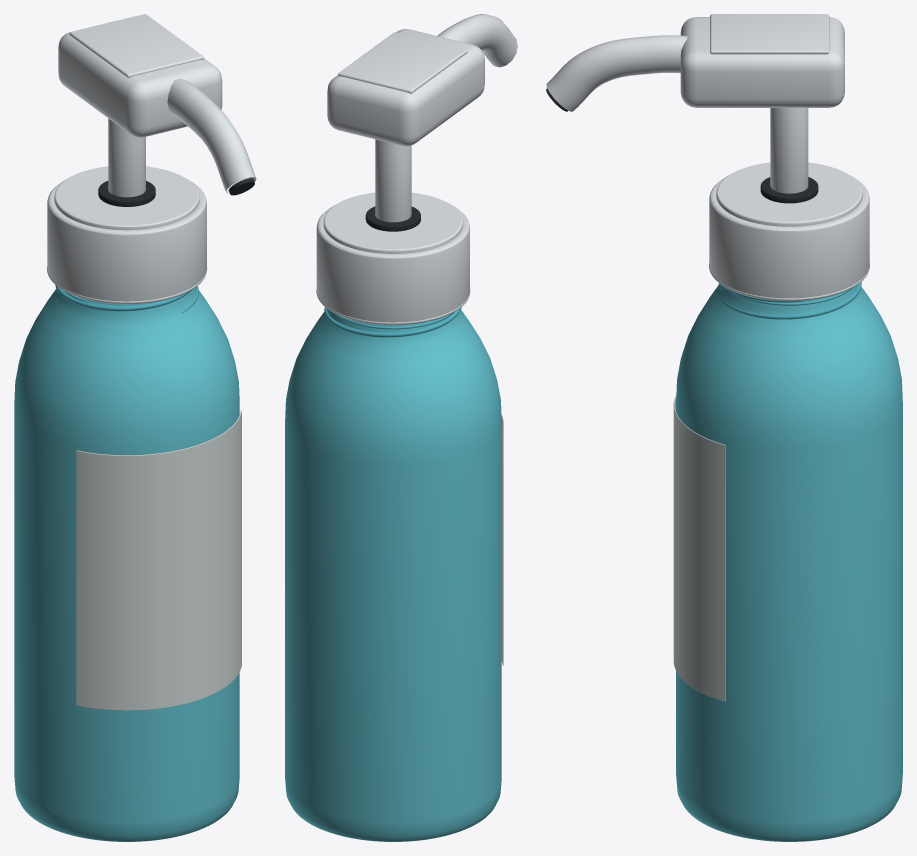
3 views of the same model, side by side, from view 1: azimuth 30°, elevation 25°; view 2: azimuth 150°, elevation 25°; view 3: azimuth 270°, elevation 25° (orthographic). The views are drawn at different scales.
Visible parts, largest first — view 1: Bottle_FrostedGlass_40x105mm.001, Blank_Label_Area_50H_x_40W_mm.001, Pump_Threaded_Collar_24mm.001, Pump_Actuator_Head.001, Collar_Top_Plate.001, Pump_Top_Highlight_Plate.001, Pump_Downward_Curved_Nozzle.001, Pump_Central_Stem.001, Neck_24_410_Thread.001, Pump_Gasket_Reveal.001, Collar_Lower_Highlight_Ring.001; view 2: Bottle_FrostedGlass_40x105mm.001, Pump_Threaded_Collar_24mm.001, Pump_Actuator_Head.001, Collar_Top_Plate.001, Pump_Top_Highlight_Plate.001, Pump_Central_Stem.001, Pump_Downward_Curved_Nozzle.001, Neck_24_410_Thread.001, Blank_Label_Area_50H_x_40W_mm.001, Pump_Gasket_Reveal.001, Collar_Lower_Highlight_Ring.001; view 3: Bottle_FrostedGlass_40x105mm.001, Blank_Label_Area_50H_x_40W_mm.001, Pump_Threaded_Collar_24mm.001, Pump_Actuator_Head.001, Collar_Top_Plate.001, Pump_Downward_Curved_Nozzle.001, Pump_Top_Highlight_Plate.001, Pump_Central_Stem.001, Neck_24_410_Thread.001, Pump_Gasket_Reveal.001.
Boxes of the visible parts, <box> form: Bottle_FrostedGlass_40x105mm.001: <box>14,286,239,841</box>; Blank_Label_Area_50H_x_40W_mm.001: <box>76,410,241,710</box>; Pump_Threaded_Collar_24mm.001: <box>47,179,206,304</box>; Pump_Actuator_Head.001: <box>58,18,222,137</box>; Collar_Top_Plate.001: <box>54,166,199,230</box>; Pump_Top_Highlight_Plate.001: <box>69,14,204,77</box>; Pump_Downward_Curved_Nozzle.001: <box>167,78,256,193</box>; Pump_Central_Stem.001: <box>108,118,145,197</box>; Neck_24_410_Thread.001: <box>55,285,198,314</box>; Pump_Gasket_Reveal.001: <box>98,181,155,206</box>; Collar_Lower_Highlight_Ring.001: <box>47,266,207,303</box>; Bottle_FrostedGlass_40x105mm.001: <box>285,309,501,841</box>; Pump_Threaded_Collar_24mm.001: <box>316,205,469,325</box>; Pump_Actuator_Head.001: <box>327,29,484,146</box>; Collar_Top_Plate.001: <box>323,192,463,253</box>; Pump_Top_Highlight_Plate.001: <box>338,32,467,93</box>; Pump_Central_Stem.001: <box>375,139,411,222</box>; Pump_Downward_Curved_Nozzle.001: <box>437,14,517,67</box>; Neck_24_410_Thread.001: <box>324,307,461,337</box>; Blank_Label_Area_50H_x_40W_mm.001: <box>501,414,503,665</box>; Pump_Gasket_Reveal.001: <box>365,206,420,231</box>; Collar_Lower_Highlight_Ring.001: <box>316,289,470,324</box>; Bottle_FrostedGlass_40x105mm.001: <box>676,283,902,841</box>; Blank_Label_Area_50H_x_40W_mm.001: <box>673,395,725,701</box>; Pump_Threaded_Collar_24mm.001: <box>709,175,869,301</box>; Pump_Actuator_Head.001: <box>680,17,844,107</box>; Collar_Top_Plate.001: <box>716,162,862,226</box>; Pump_Downward_Curved_Nozzle.001: <box>546,35,687,111</box>; Pump_Top_Highlight_Plate.001: <box>710,14,829,54</box>; Pump_Central_Stem.001: <box>770,108,808,193</box>; Neck_24_410_Thread.001: <box>721,282,861,319</box>; Pump_Gasket_Reveal.001: <box>760,177,818,203</box>.
Size of the model in its own units: 0.04 by 0.1494 by 0.0629.
